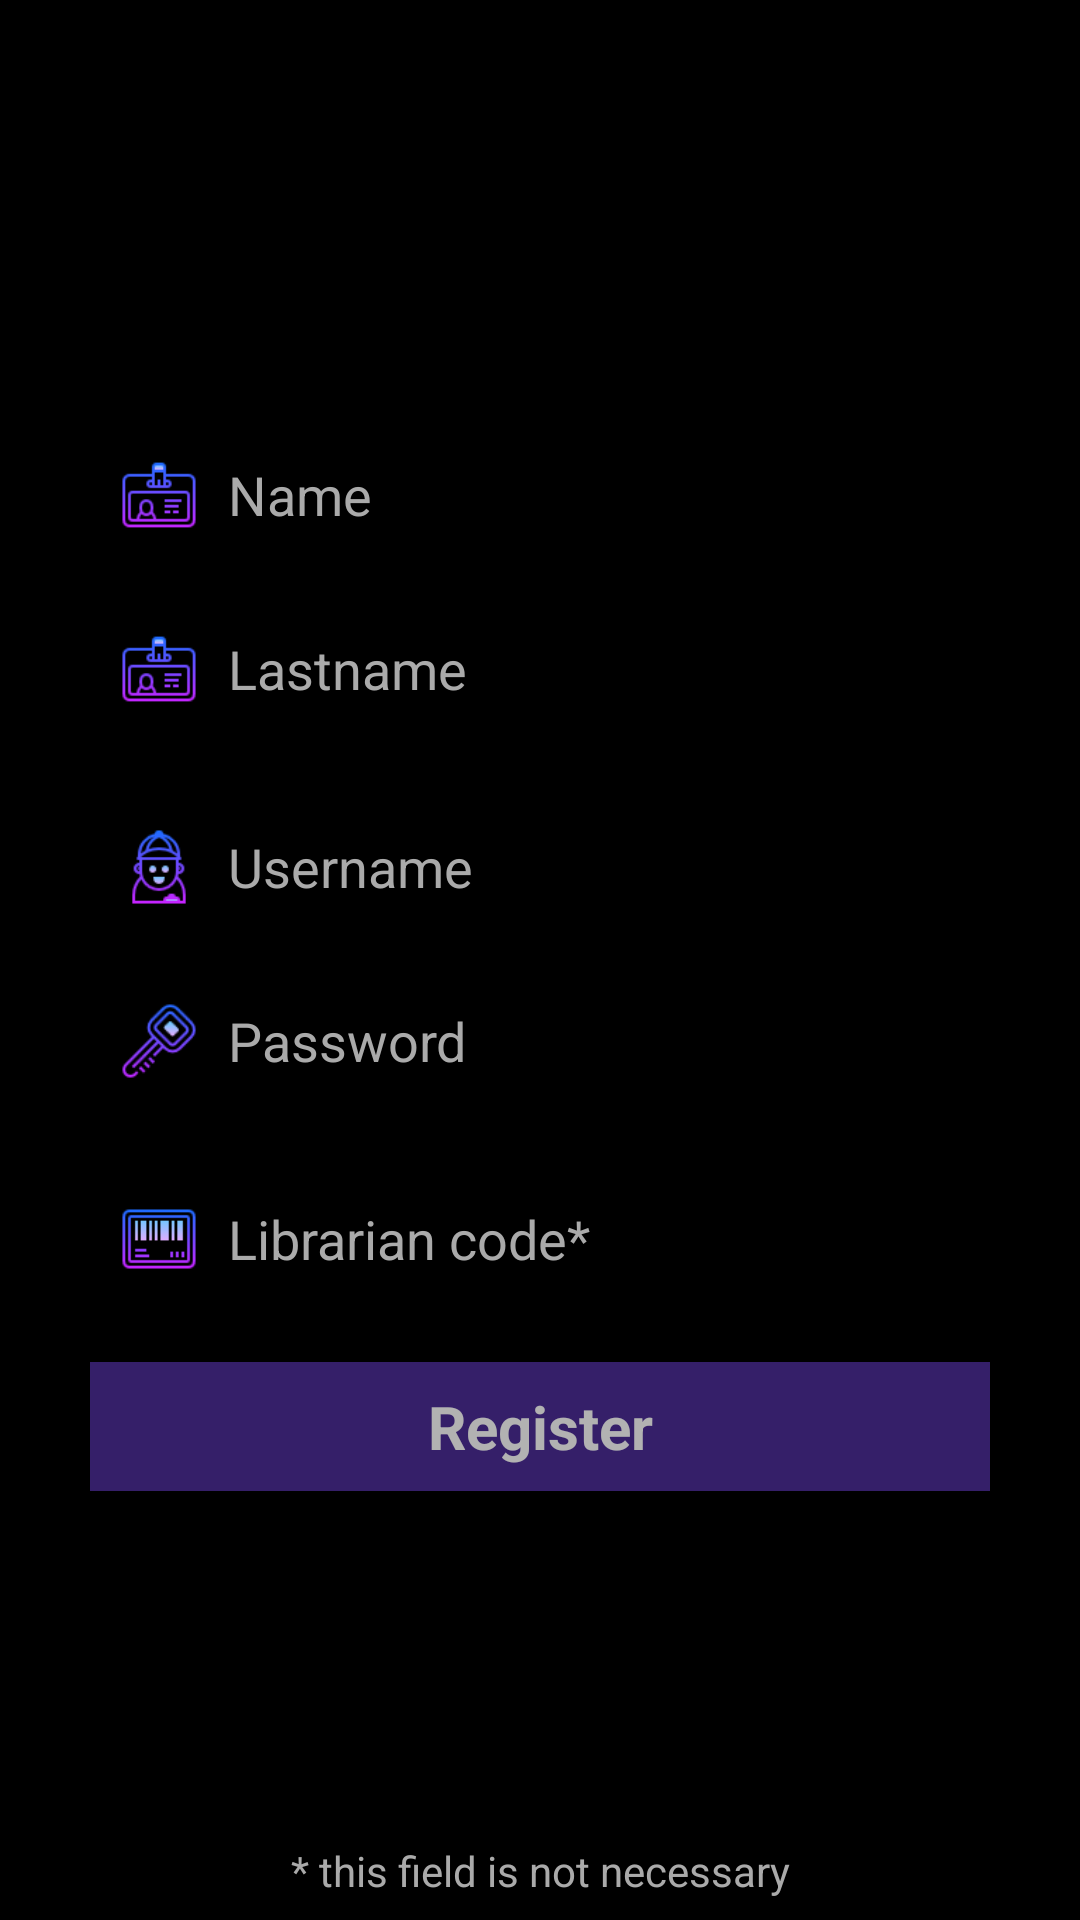

Where icons sit on this 1080x1920 app screen, as {"x1": x1, "y1": y1, "x2": x2, "y2": y2}:
personal data: {"x1": 122, "y1": 462, "x2": 196, "y2": 528}, {"x1": 122, "y1": 636, "x2": 196, "y2": 702}
